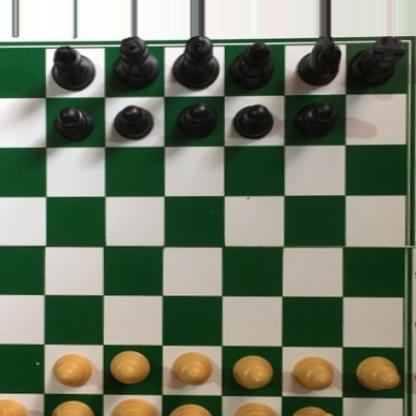black-bishop: (226, 42, 276, 91), (50, 46, 99, 92)
black-king: (172, 36, 221, 90)
black-knight: (296, 36, 343, 88)
black-pawn: (48, 105, 96, 142), (111, 104, 156, 143), (294, 102, 337, 141), (178, 103, 219, 142), (233, 104, 275, 140)
black-queen: (115, 36, 161, 93)
black-rook: (348, 36, 406, 89)
white-bishop: (50, 396, 98, 416), (235, 400, 283, 416)
white-king: (166, 401, 218, 416)
white-knight: (0, 396, 28, 416), (290, 404, 335, 416)
white-pawn: (354, 355, 403, 392), (231, 353, 277, 392), (169, 350, 214, 388), (109, 349, 151, 386), (291, 357, 335, 390), (52, 353, 93, 388)
white-queen: (108, 397, 160, 416)
